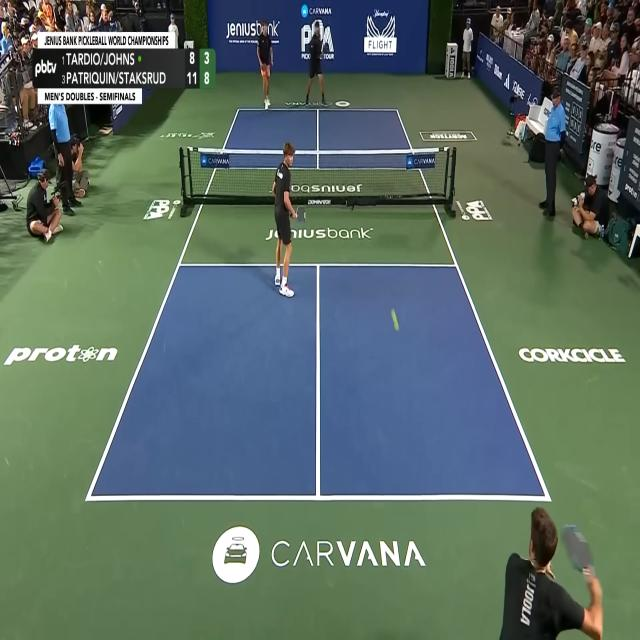ball: (390, 307, 400, 332)
